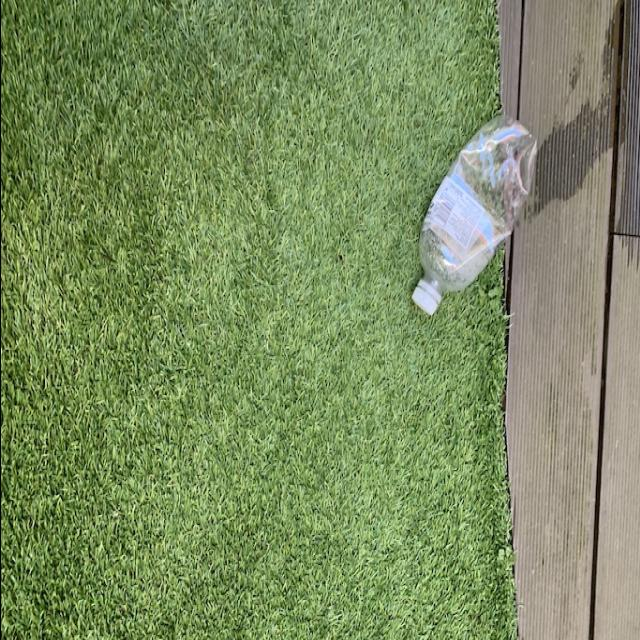litter: (410, 114, 534, 322)
